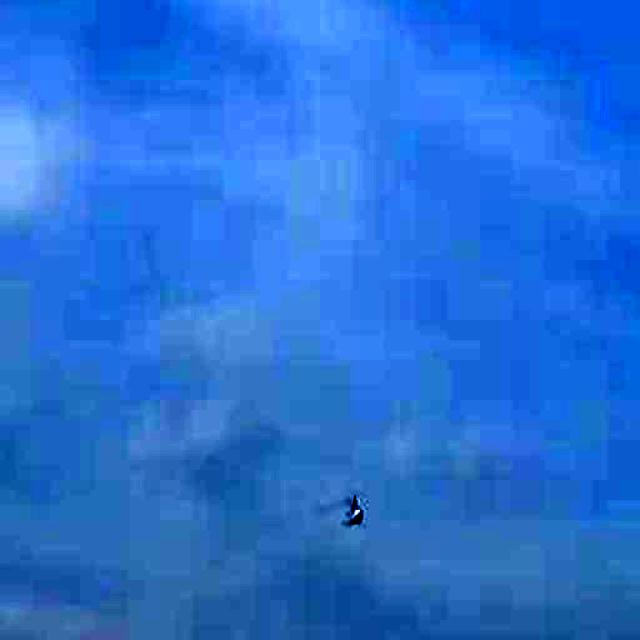drone: (334, 481, 378, 539)
